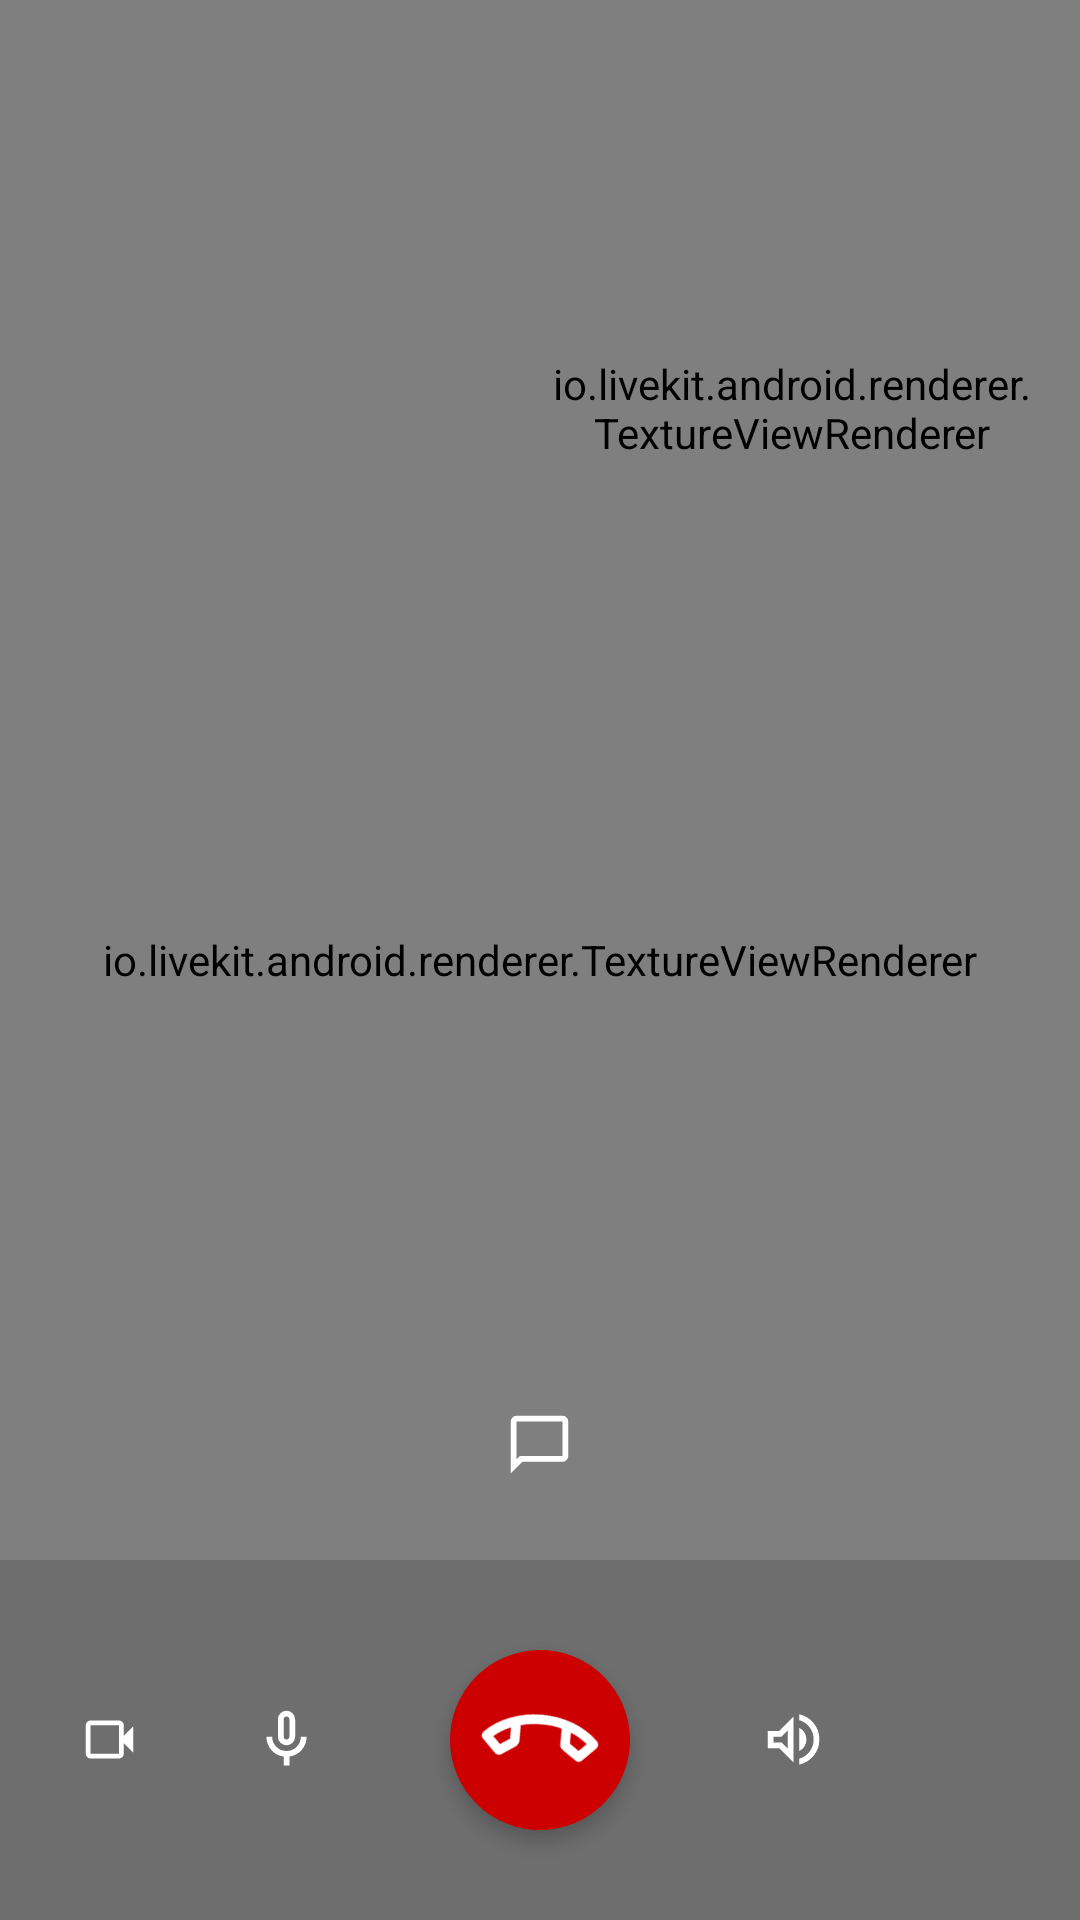

Where icons sit on this 1080px×1920px app screen, as (x1=x1, y1=y1, x2=x2, y2=y2):
ism chat: (x1=510, y1=1415, x2=569, y2=1473)
ism mic: (x1=266, y1=1710, x2=307, y2=1766)
ism speaker: (x1=767, y1=1714, x2=820, y2=1765)
ism video: (x1=85, y1=1720, x2=134, y2=1759)
